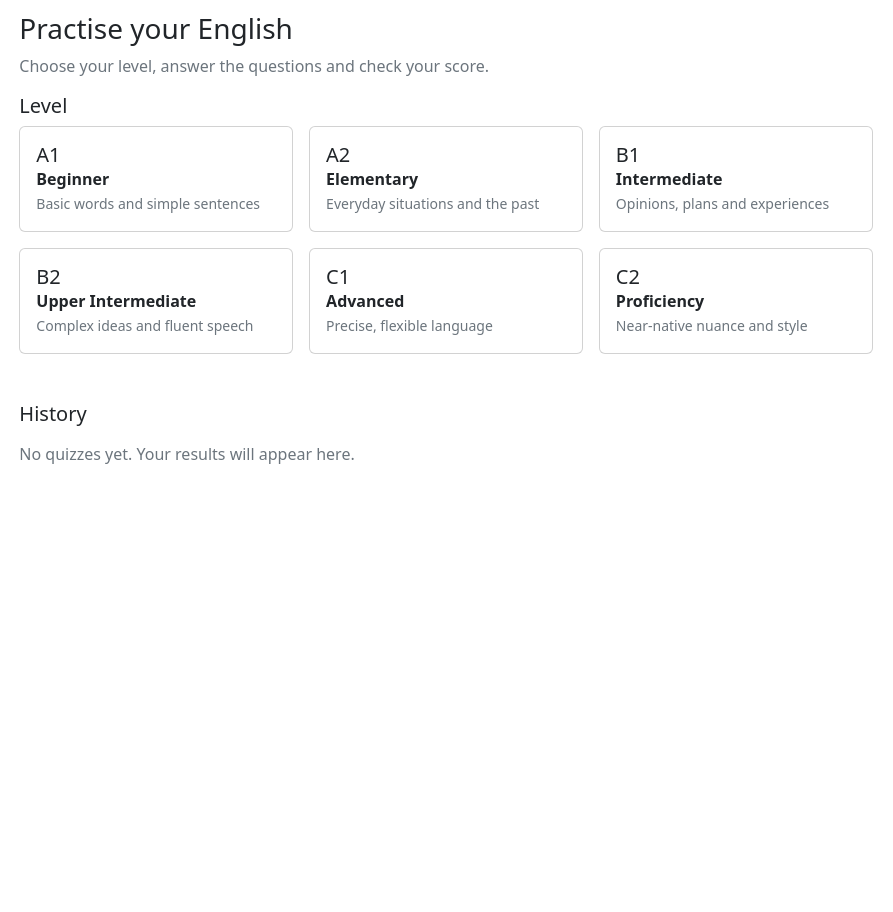
QuizSetupPage topic filter › shows the topics only after a level is chosen, with the number of questions per topic
This screenshot has width=893, height=912.
Expected: the element "Topics" is not shown
Step 1. Click the radio button labelled "A1 Beginner Basic words and simple sentences" → {"x": 156, "y": 179}, box [19,126,293,232]
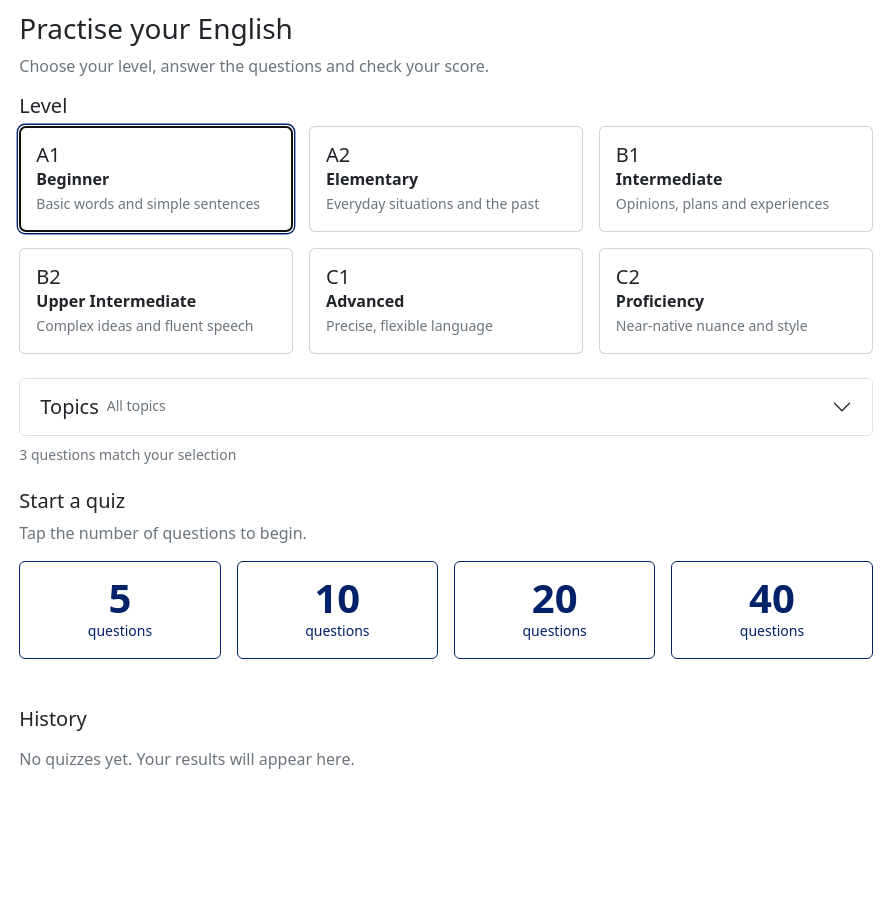
Step 2. Click the button "Topics All topics" → {"x": 70, "y": 406}, box [20,379,872,435]
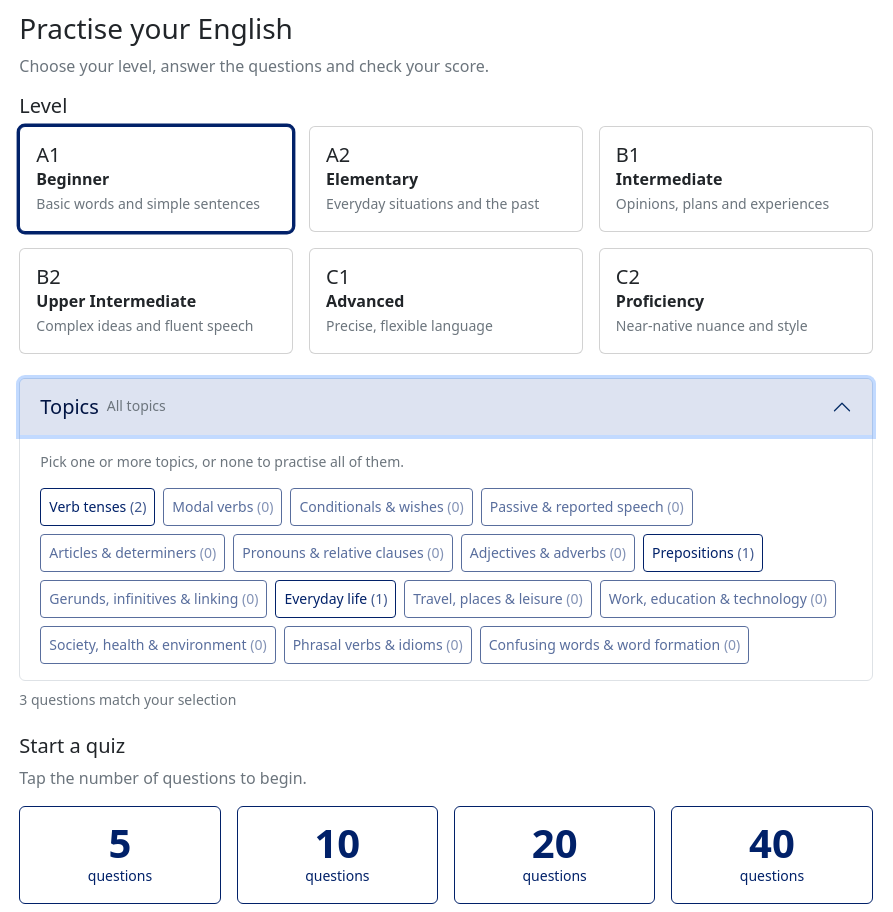
Expected: the button "Verb tenses (2)" is shown, [40,488,155,526]
Expected: the button "Everyday life (1)" is shown, [275,580,396,618]
